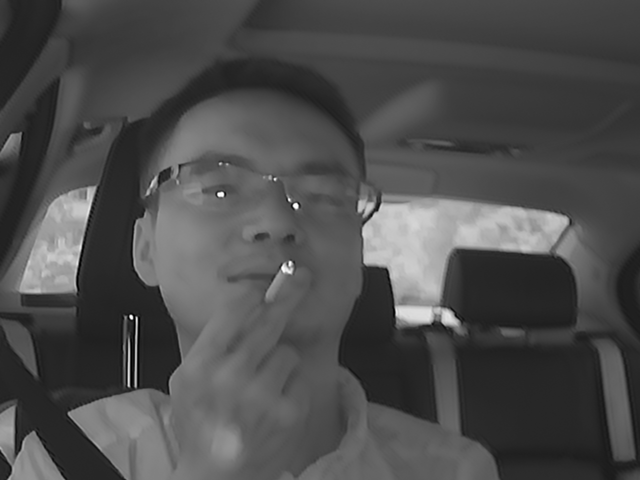hand: (170, 264, 319, 454)
